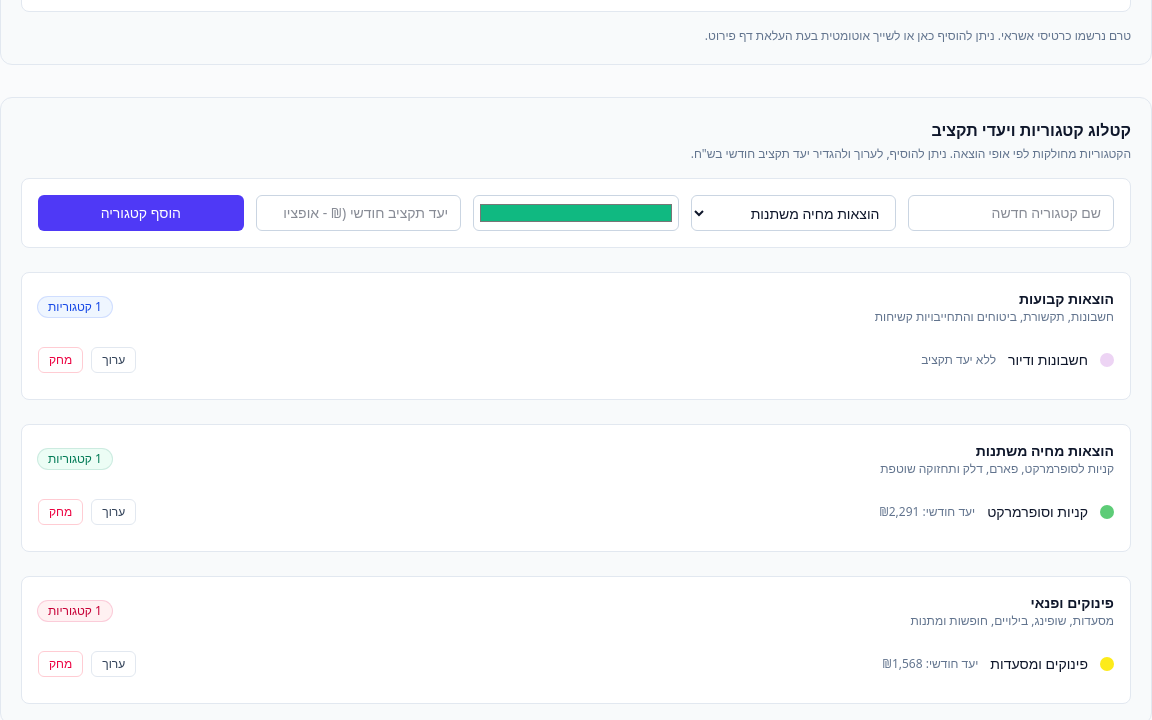
it: HouseholdSettings Component › deletes a Category when confirmed via delete button
(page scrolled)
Check: the text "חשבונות ודיור" is shown, box [1008,350,1088,370]
Click the button with aria-label "מחק קטגוריה חשבונות ודיור": (61, 360) [38,347,83,373]
(page scrolled)
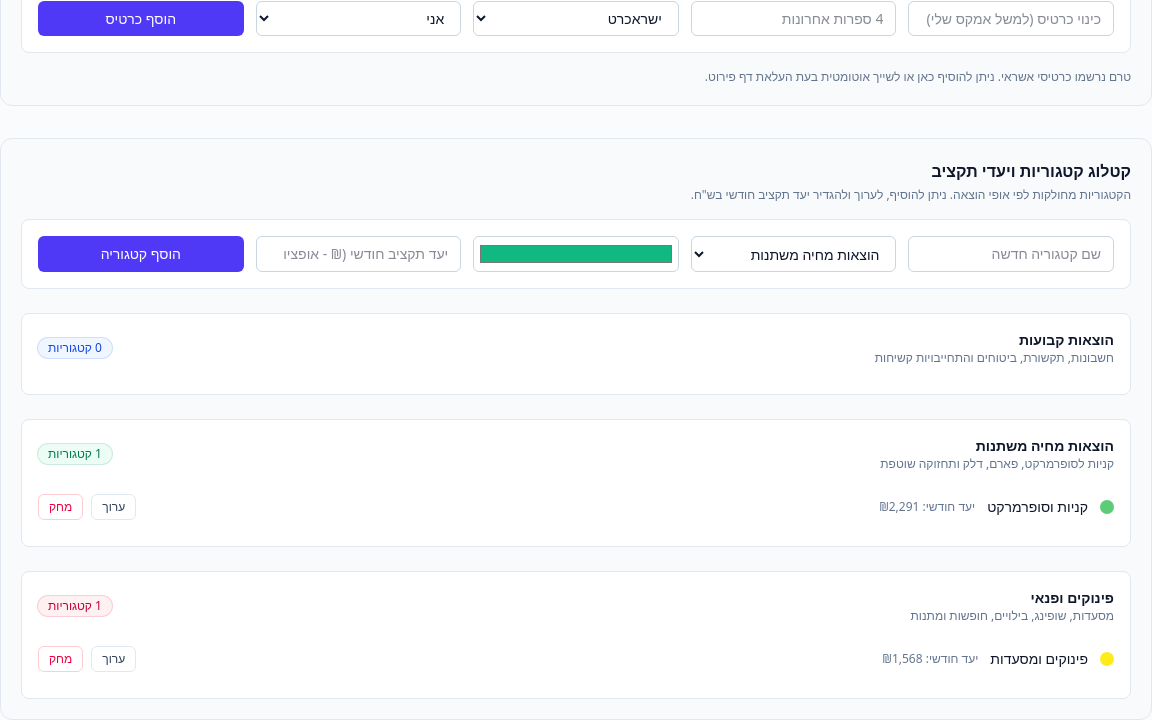
Check: the text "חשבונות ודיור" is gone
